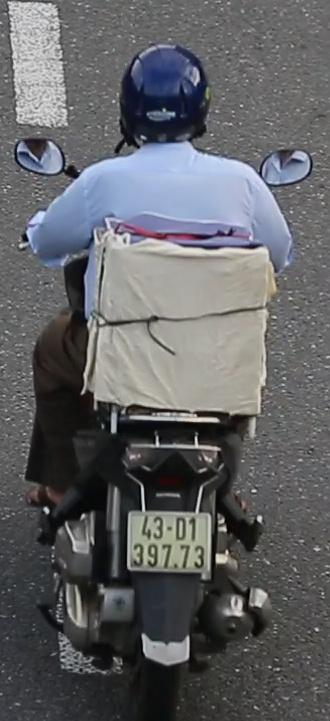LP: (125, 505, 218, 581)
helmet: (116, 37, 218, 161)
